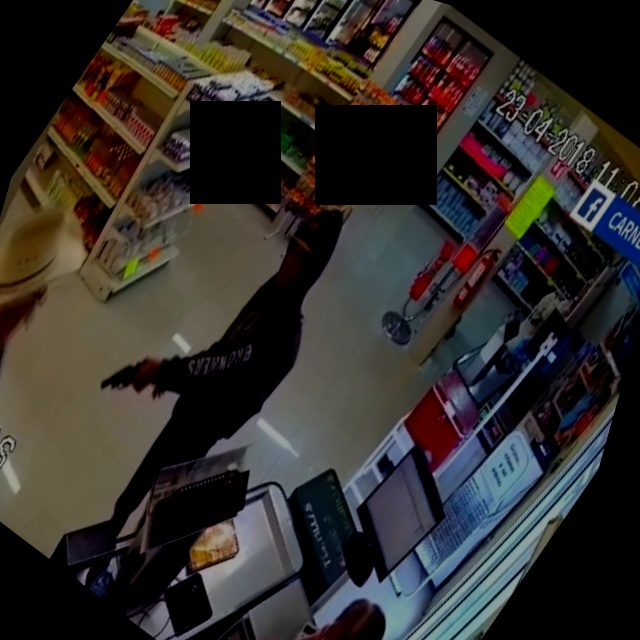gun: (73, 307, 177, 439)
